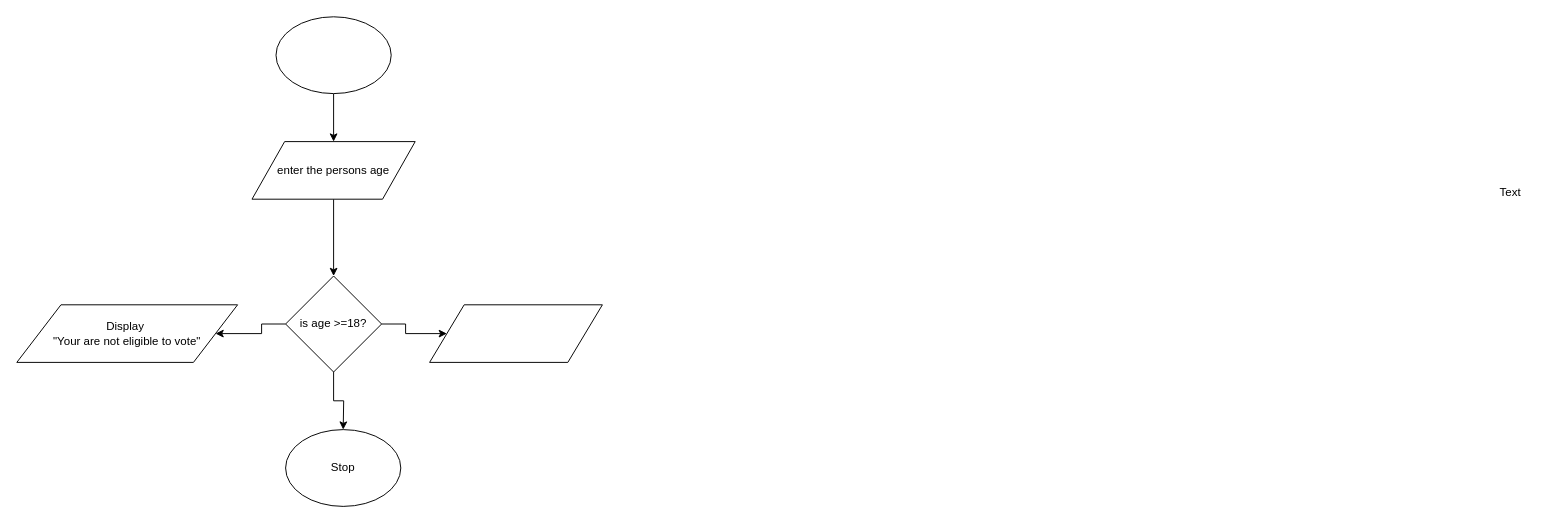
This 1553x523 diagram has some shape labels left out. The centre of each missing label's shape, as x and y in pixels:
Display "Your are eligible to vote": (515,333)
Start: (333,55)
